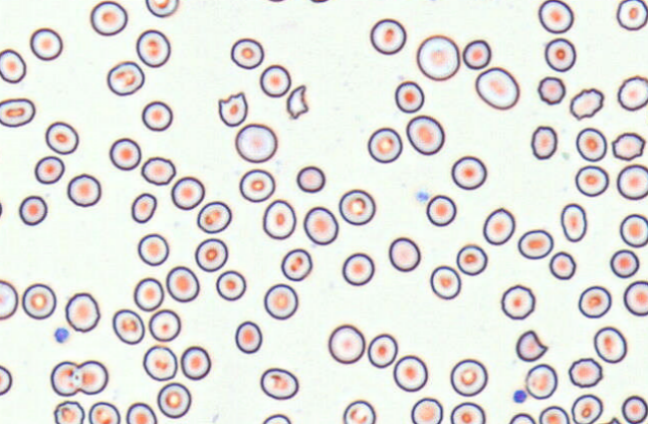PLT: (52, 327, 71, 345), (415, 186, 431, 204), (512, 389, 529, 405)
RBC: (416, 34, 460, 81), (475, 66, 519, 110), (234, 123, 277, 163), (405, 114, 444, 155), (327, 324, 365, 364), (450, 358, 487, 396), (65, 292, 100, 332), (338, 188, 375, 225), (392, 354, 428, 392), (89, 0, 127, 36), (106, 60, 144, 96), (303, 206, 338, 245), (262, 199, 296, 239), (369, 18, 406, 54), (263, 283, 298, 320), (21, 282, 56, 319), (136, 29, 170, 67), (259, 367, 298, 400), (156, 382, 191, 418), (142, 345, 177, 381), (500, 284, 535, 320), (367, 127, 402, 163), (450, 155, 486, 190), (593, 326, 627, 363), (165, 265, 199, 302), (238, 168, 275, 202), (482, 207, 515, 245), (537, 0, 574, 33), (74, 360, 108, 395), (194, 237, 228, 272), (524, 363, 557, 399), (170, 176, 204, 210), (67, 173, 101, 207), (196, 200, 231, 233), (569, 87, 604, 120), (112, 308, 144, 344), (388, 236, 420, 272), (616, 163, 647, 200), (148, 308, 181, 342), (575, 127, 607, 162), (574, 165, 609, 197), (544, 37, 576, 72), (341, 252, 374, 285), (578, 285, 611, 318), (29, 27, 62, 60), (45, 121, 78, 154), (429, 265, 461, 299), (230, 37, 264, 69), (180, 345, 211, 380), (517, 229, 553, 259), (617, 75, 647, 111), (280, 248, 312, 281), (259, 64, 291, 97), (137, 233, 169, 266), (109, 137, 141, 170), (568, 357, 602, 388), (133, 277, 164, 311), (560, 203, 587, 242), (367, 333, 397, 368), (0, 97, 35, 127), (50, 360, 79, 396), (215, 269, 246, 301), (425, 194, 456, 226), (456, 243, 487, 275), (394, 80, 424, 113), (141, 156, 175, 185), (141, 100, 172, 131), (571, 393, 603, 423), (616, 0, 648, 30), (619, 213, 647, 247), (234, 320, 262, 353), (530, 125, 557, 159), (0, 48, 26, 83), (609, 249, 639, 278), (34, 155, 64, 184), (18, 195, 47, 225), (462, 39, 491, 69), (623, 280, 647, 316), (410, 397, 443, 423), (342, 399, 376, 423), (548, 251, 576, 280), (296, 165, 325, 193), (537, 76, 565, 104), (131, 192, 156, 223), (450, 401, 485, 423), (0, 279, 18, 320), (621, 395, 647, 423), (53, 400, 84, 423), (88, 401, 120, 423), (125, 402, 157, 423), (145, 0, 178, 17), (538, 405, 569, 423), (0, 364, 12, 395), (261, 413, 291, 423), (508, 412, 535, 423), (595, 416, 622, 424), (307, 0, 332, 3), (0, 198, 3, 220), (264, 0, 289, 2)
Schistocyte: (515, 329, 549, 361), (217, 92, 247, 128), (613, 133, 647, 162), (288, 82, 311, 121)
